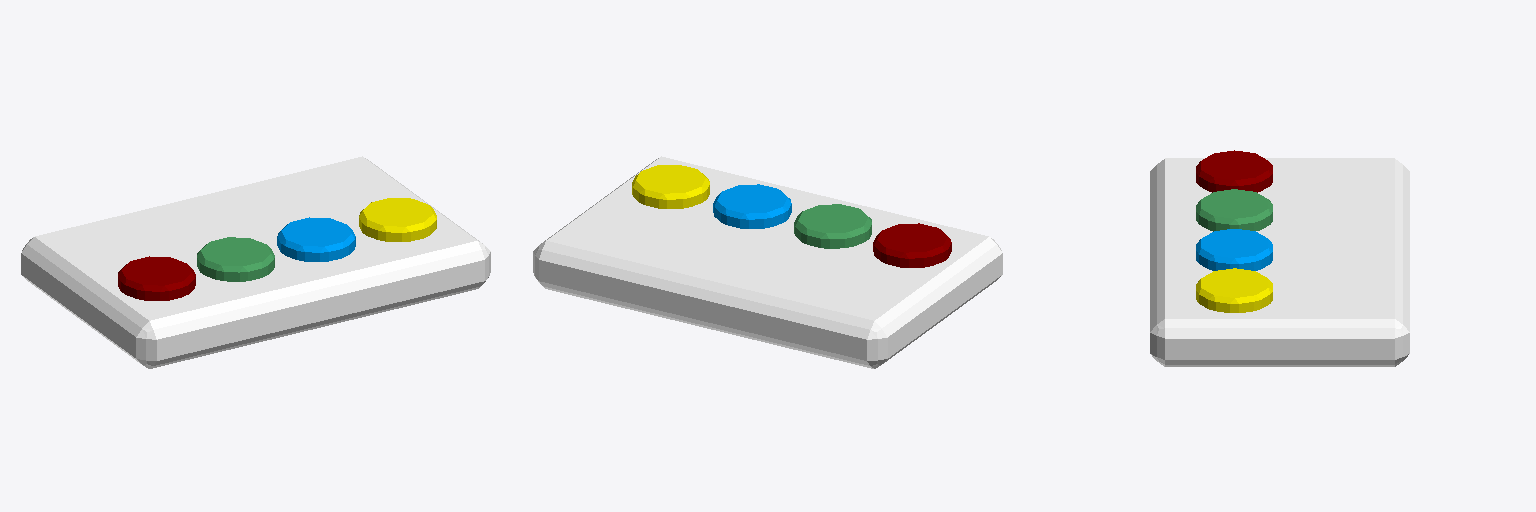
Rendered from device.obj.
3 views of the same model, side by side, from view 1: azimuth 30°, elevation 25°; view 2: azimuth 150°, elevation 25°; view 3: azimuth 270°, elevation 25° (orthographic).
Parts seen in each view (by area): view 1: pCube1 group6, group6 btn_blue, group6 btn_green, group6 btn_red, group6 btn_yellow; view 2: pCube1 group6, group6 btn_blue, group6 btn_red, group6 btn_yellow, group6 btn_green; view 3: pCube1 group6, group6 btn_yellow, group6 btn_blue, group6 btn_green, group6 btn_red.
Boxes of the visible parts, box(x1,y1,x2,y2) form: pCube1 group6: box(21, 156, 490, 368); group6 btn_blue: box(277, 217, 355, 261); group6 btn_green: box(197, 237, 274, 281); group6 btn_red: box(118, 256, 195, 300); group6 btn_yellow: box(359, 198, 436, 241); pCube1 group6: box(533, 156, 1002, 368); group6 btn_blue: box(713, 184, 791, 228); group6 btn_red: box(873, 223, 951, 267); group6 btn_yellow: box(632, 165, 709, 208); group6 btn_green: box(794, 204, 871, 248); pCube1 group6: box(1150, 158, 1409, 366); group6 btn_yellow: box(1196, 268, 1272, 312); group6 btn_blue: box(1196, 229, 1272, 270); group6 btn_green: box(1196, 189, 1272, 231); group6 btn_red: box(1196, 150, 1272, 192).
Size of the model in its own units: 1.75 by 0.2933 by 1.11.